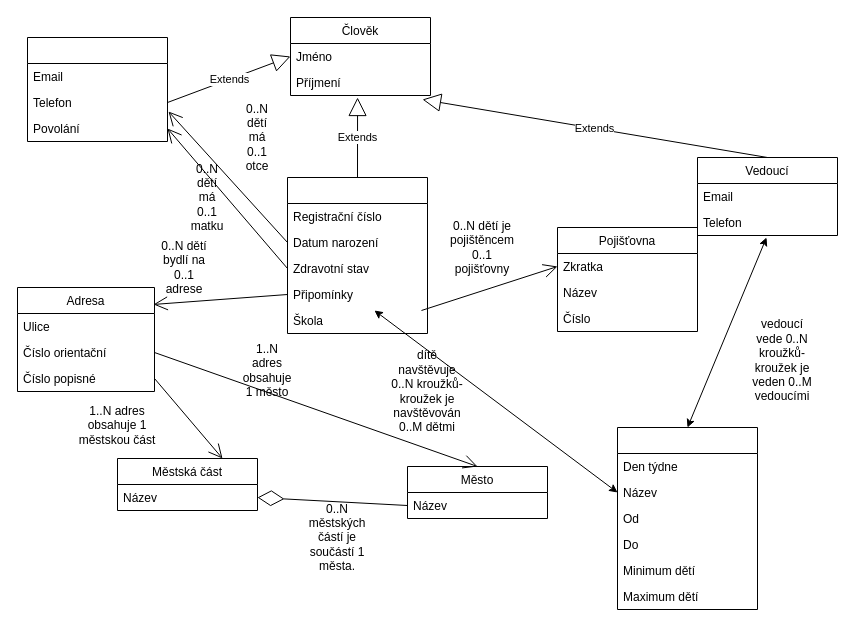
The diagram is 855 pixels wide and 630 high, and some of its shapes have lost their labels. Here are the shapes that lost their labels. From the top down, the box of each, then its label:
(26, 36, 168, 142): Rodič
(286, 176, 428, 334): Dítě
(616, 426, 758, 610): Kroužek
